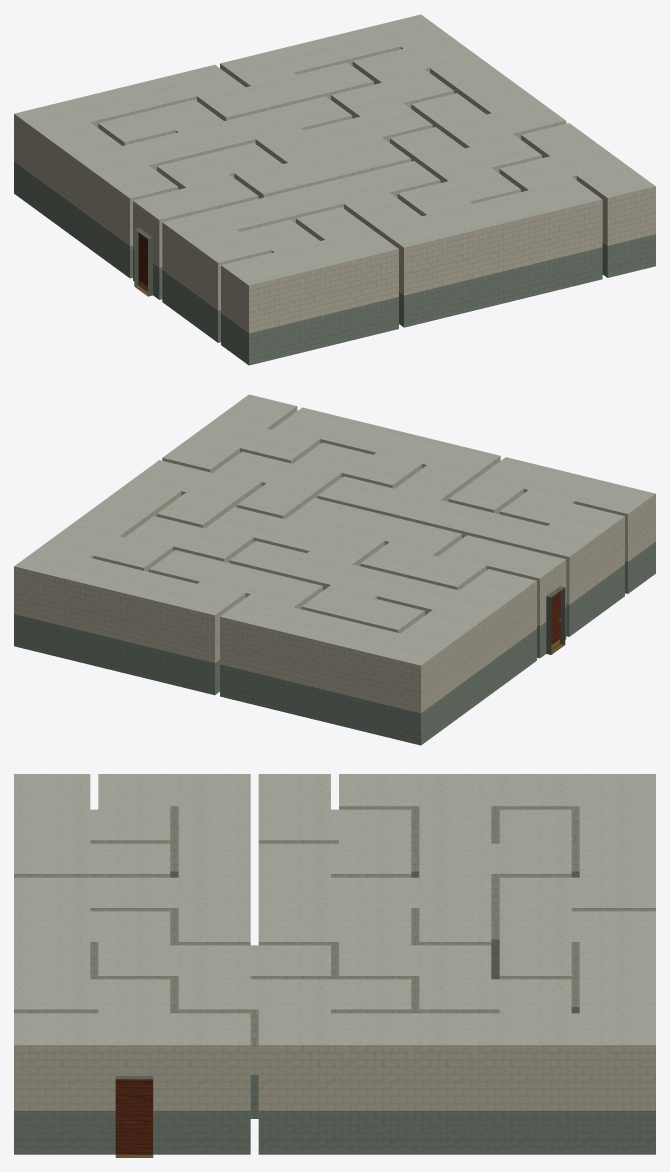
File: maze_07.glb
The picture shows the model from 3 angles, top to bottom: view 1: azimuth 30°, elevation 25°; view 2: azimuth 150°, elevation 25°; view 3: azimuth 270°, elevation 25°; orthographic projection. The views are drawn at different scales.
Visible parts, largest first — view 1: Skin_Stair_Ceiling.001, Skin_Block_Upper.001, Skin_Block_Lower.001, Skin_Jamb_Steel.001, DoorLeaf_entry; view 2: Skin_Stair_Ceiling.001, Skin_Block_Upper.001, Skin_Block_Lower.001, Skin_Jamb_Steel.001, DoorLeaf_entry; view 3: Skin_Stair_Ceiling.001, Skin_Block_Upper.001, Skin_Block_Lower.001, DoorLeaf_way_on.
Part boxes in pixels (x1,y1,x2,y2): Skin_Stair_Ceiling.001: (14, 14, 655, 285); Skin_Block_Upper.001: (14, 46, 655, 333); Skin_Block_Lower.001: (14, 162, 655, 365); Skin_Jamb_Steel.001: (134, 228, 152, 296); DoorLeaf_entry: (138, 232, 147, 291); Skin_Stair_Ceiling.001: (14, 394, 655, 665); Skin_Block_Upper.001: (14, 406, 655, 713); Skin_Block_Lower.001: (14, 542, 655, 745); Skin_Jamb_Steel.001: (546, 586, 565, 654); DoorLeaf_entry: (551, 591, 561, 650); Skin_Stair_Ceiling.001: (14, 774, 655, 1045); Skin_Block_Upper.001: (14, 806, 655, 1110); Skin_Block_Lower.001: (14, 871, 655, 1154); DoorLeaf_way_on: (115, 1079, 152, 1154).
Bounding box in the file's own units: 16.4 × 3 × 16.
20 materials, 14 textured.
